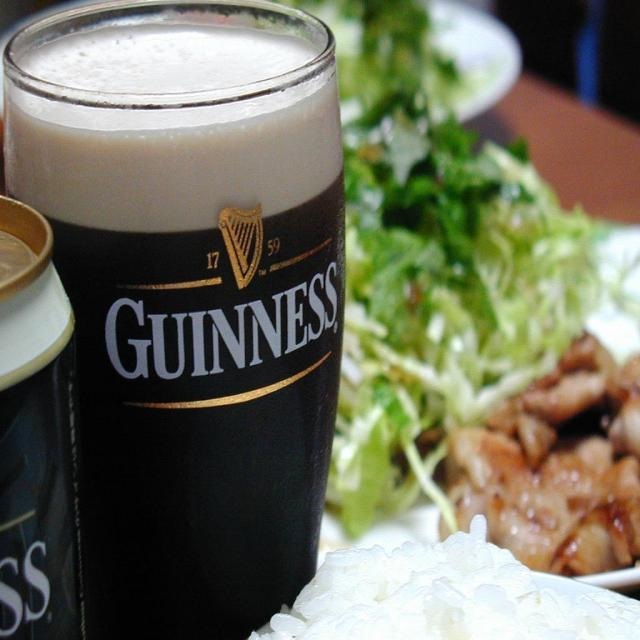guiness: (102, 199, 342, 385)
